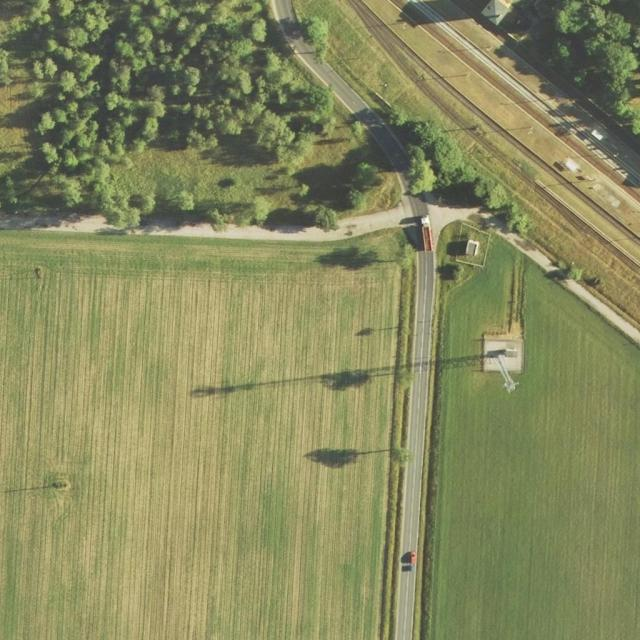building: (483, 336, 527, 393), (451, 230, 494, 269)
metalled_road: (0, 206, 413, 248)
